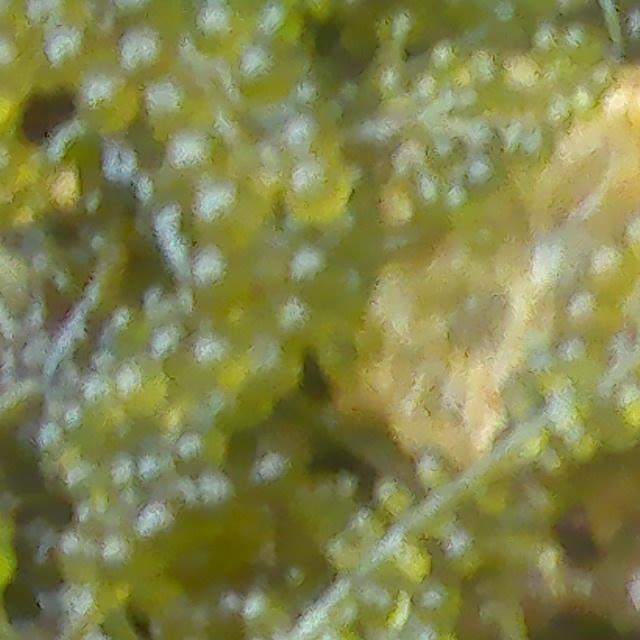SeaGrape: (189, 182, 263, 248), (287, 157, 356, 222), (235, 46, 298, 104), (166, 126, 231, 180), (78, 78, 143, 128), (118, 28, 177, 82), (350, 583, 401, 636), (143, 84, 198, 133), (411, 576, 462, 627), (195, 8, 247, 52), (326, 533, 363, 572), (411, 454, 451, 489), (372, 478, 409, 514), (346, 509, 382, 542)
